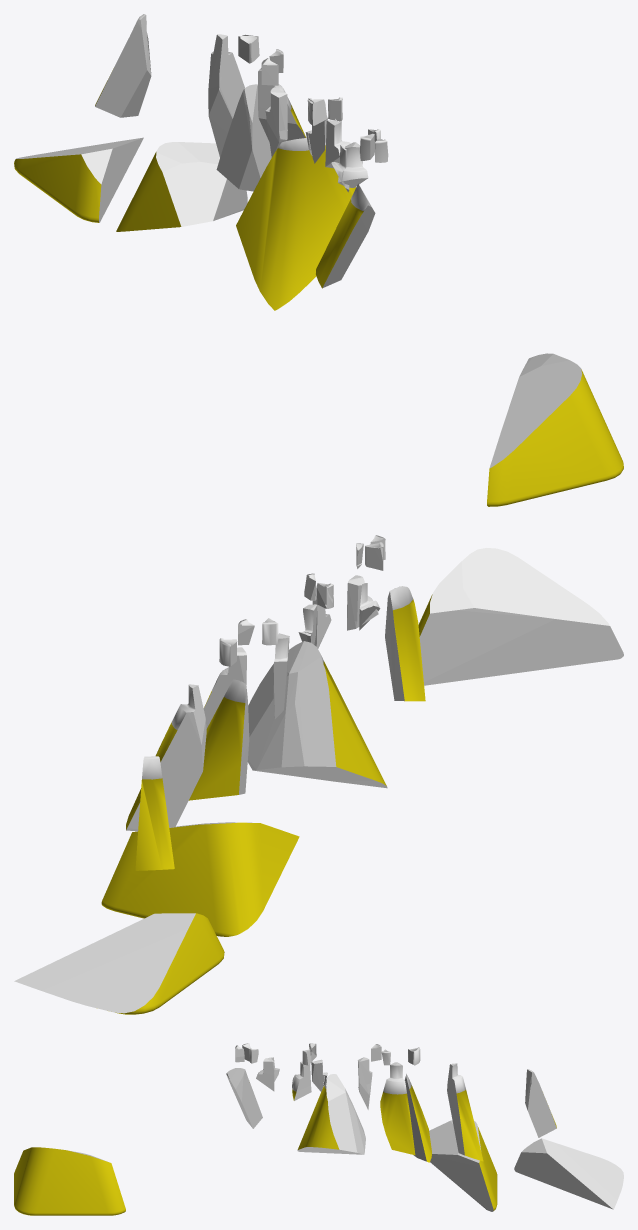
The model's file is ShatteredTriangle.fbx.
The picture shows the model from 3 angles, top to bottom: view 1: azimuth 30°, elevation 25°; view 2: azimuth 150°, elevation 25°; view 3: azimuth 270°, elevation 25°; orthographic projection. The views are drawn at different scales.
Parts seen in each view (by area): view 1: triangleVial_cell.001, triangleVial_cell.023, triangleVial_cell.012, triangleVial_cell.019, triangleVial_cell.020, triangleVial_cell.008, triangleVial_cell.005, triangleVial_cell, triangleVial_cell.021, triangleVial_cell.004, triangleVial_cell.010, triangleVial_cell.003; view 2: triangleVial_cell.001, triangleVial_cell.012, triangleVial_cell.019, triangleVial_cell.023, triangleVial_cell, triangleVial_cell.020, triangleVial_cell.005, triangleVial_cell.008, triangleVial_cell.004, triangleVial_cell.021, triangleVial_cell.010; view 3: triangleVial_cell.001, triangleVial_cell.019, triangleVial_cell.023, triangleVial_cell.012, triangleVial_cell.004, triangleVial_cell, triangleVial_cell.008, triangleVial_cell.020, triangleVial_cell.005, triangleVial_cell.021, triangleVial_cell.003, triangleVial_cell.010 (+1 smaller).
Boxes of the visible parts, <box> form: triangleVial_cell.001: <box>487,353,623,506</box>; triangleVial_cell.023: <box>236,138,355,310</box>; triangleVial_cell.012: <box>116,142,247,231</box>; triangleVial_cell.019: <box>14,137,143,222</box>; triangleVial_cell.020: <box>216,84,271,191</box>; triangleVial_cell.008: <box>95,14,151,117</box>; triangleVial_cell.005: <box>316,183,375,288</box>; triangleVial_cell: <box>208,34,244,157</box>; triangleVial_cell.021: <box>265,87,287,157</box>; triangleVial_cell.004: <box>258,68,306,141</box>; triangleVial_cell.010: <box>338,142,368,187</box>; triangleVial_cell.003: <box>325,120,350,168</box>; triangleVial_cell.001: <box>418,548,623,685</box>; triangleVial_cell.012: <box>101,822,299,936</box>; triangleVial_cell.019: <box>14,913,224,1014</box>; triangleVial_cell.023: <box>247,641,387,788</box>; triangleVial_cell: <box>126,684,206,831</box>; triangleVial_cell.020: <box>189,679,249,800</box>; triangleVial_cell.005: <box>385,586,425,701</box>; triangleVial_cell.008: <box>135,756,174,870</box>; triangleVial_cell.004: <box>203,647,246,728</box>; triangleVial_cell.021: <box>273,633,289,718</box>; triangleVial_cell.010: <box>347,575,378,630</box>; triangleVial_cell.001: <box>14,1147,125,1215</box>; triangleVial_cell.019: <box>514,1138,623,1209</box>; triangleVial_cell.023: <box>297,1074,365,1154</box>; triangleVial_cell.012: <box>429,1120,497,1211</box>; triangleVial_cell.004: <box>380,1062,415,1155</box>; triangleVial_cell: <box>447,1063,483,1161</box>; triangleVial_cell.008: <box>525,1069,556,1137</box>; triangleVial_cell.020: <box>404,1074,431,1162</box>; triangleVial_cell.005: <box>226,1068,262,1128</box>; triangleVial_cell.021: <box>358,1057,372,1109</box>; triangleVial_cell.003: <box>292,1061,311,1100</box>; triangleVial_cell.010: <box>256,1058,274,1091</box>.
Size of the model in its own units: 71.99 by 99.31 by 379.
